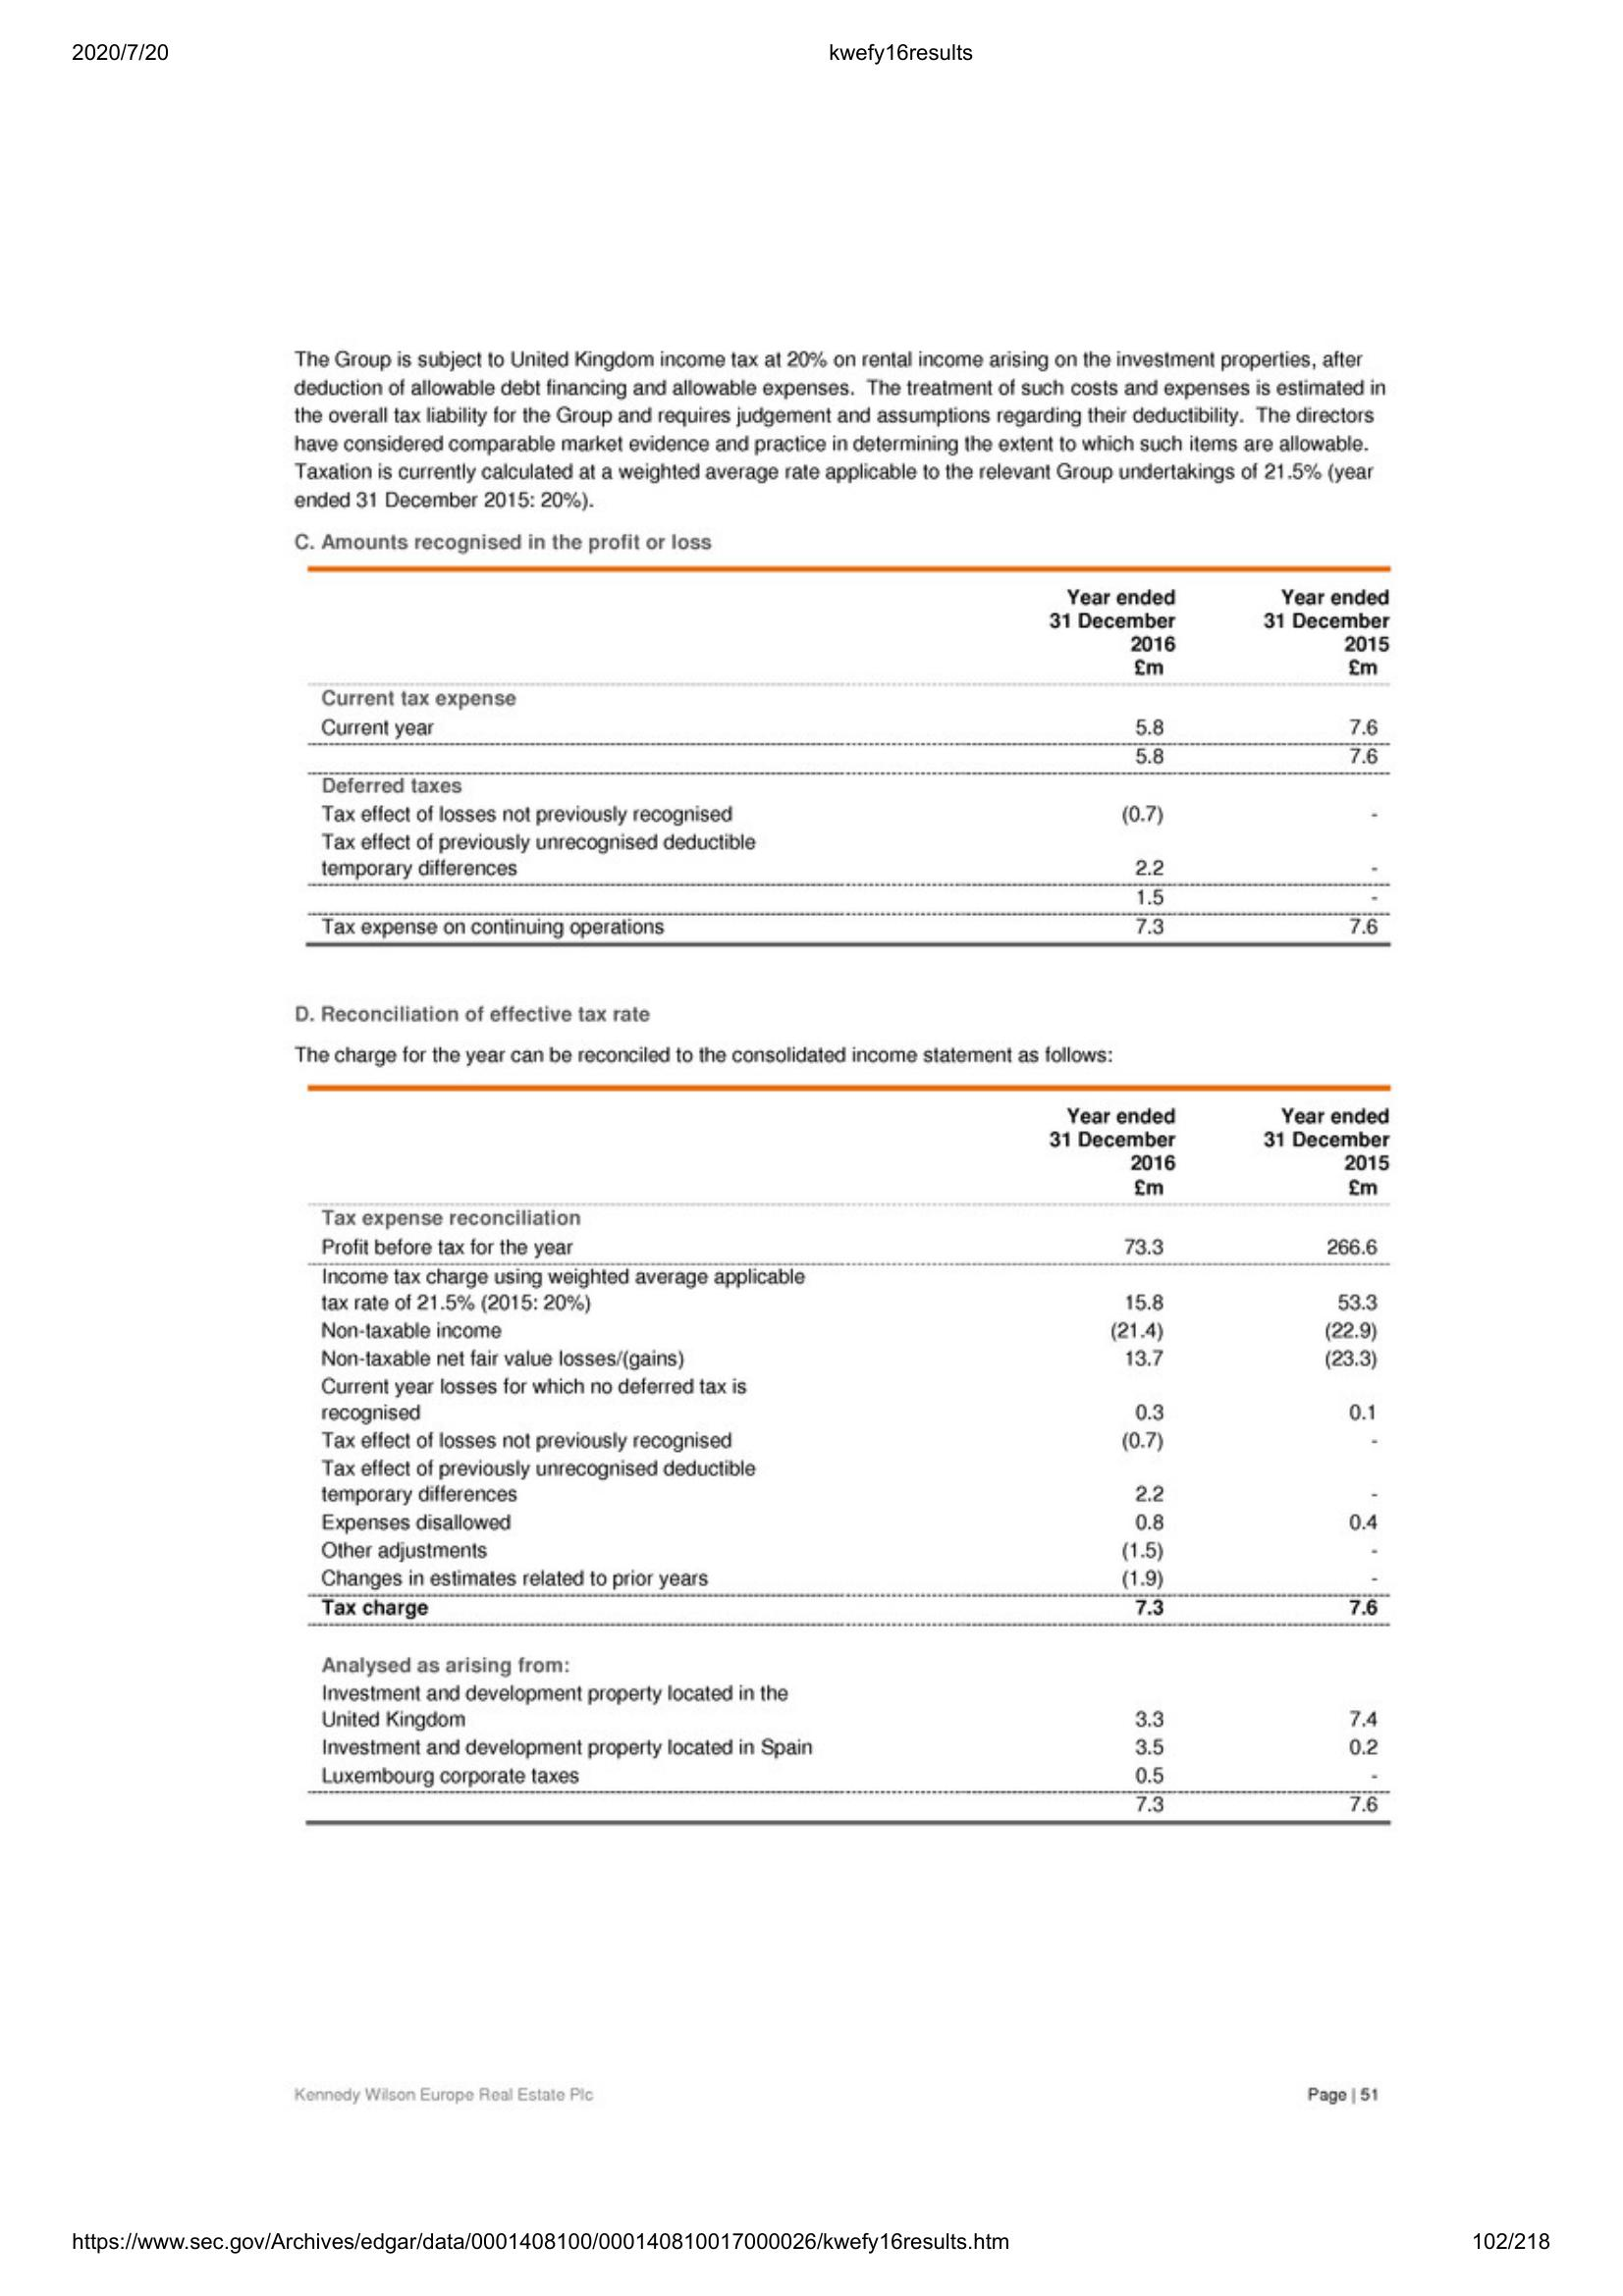table: (295, 1092, 1396, 1833), (299, 558, 1400, 1101)
